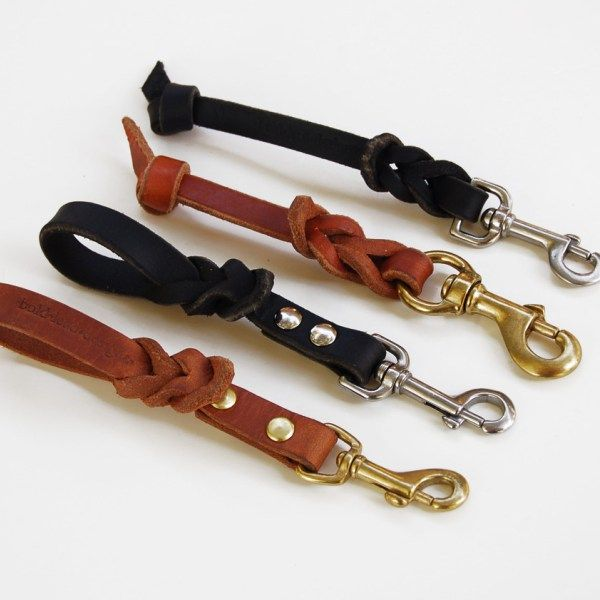cuero: (1, 61, 488, 470)
